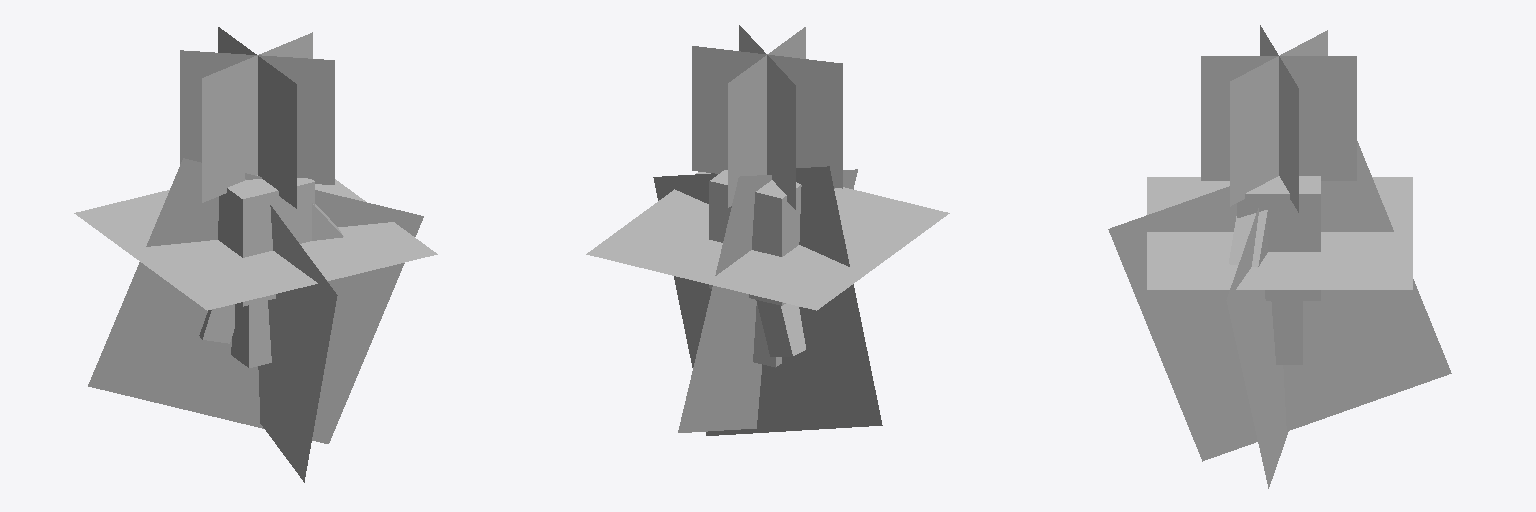
The model's file is carrot.obj.
3 renders of one model, left to right at view 1: azimuth 30°, elevation 25°; view 2: azimuth 150°, elevation 25°; view 3: azimuth 270°, elevation 25°, orthographic.
Visible parts, largest first — view 1: Cube; view 2: Cube; view 3: Cube.
Part boxes in pixels (x1,y1,x2,y2): Cube: (74, 27, 437, 482); Cube: (586, 25, 949, 435); Cube: (1108, 25, 1451, 488).
Size of the model in its own units: 3.04 by 4.12 by 3.2.